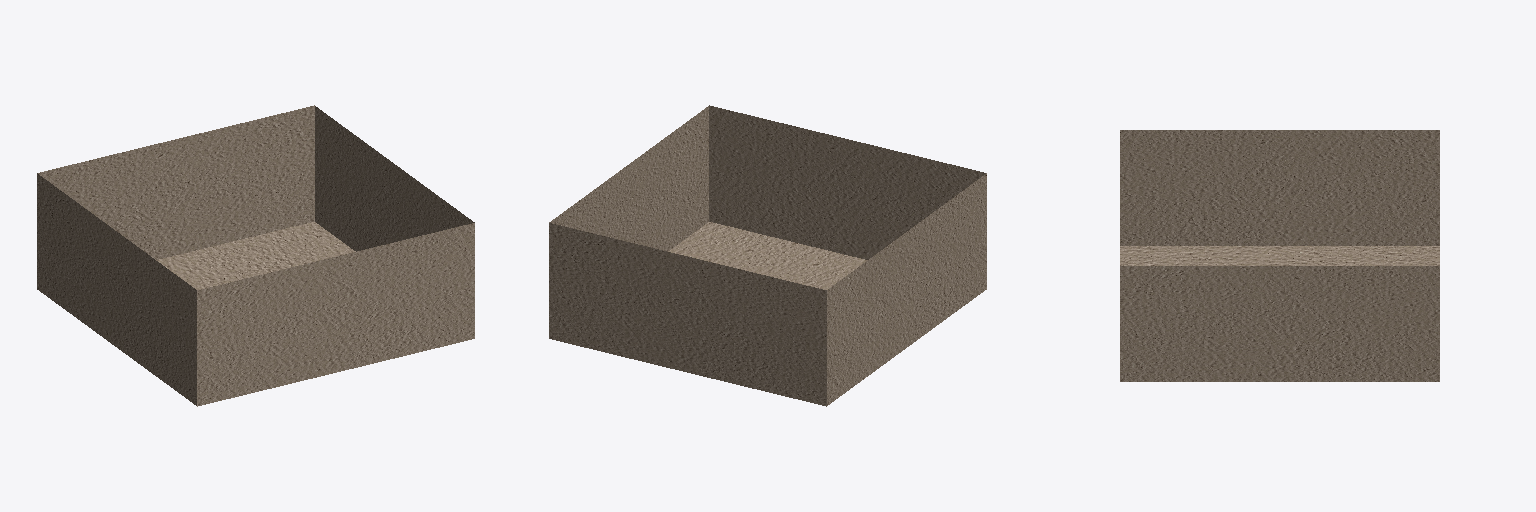
3 views of the same model, side by side, from view 1: azimuth 30°, elevation 25°; view 2: azimuth 150°, elevation 25°; view 3: azimuth 270°, elevation 25° (orthographic).
Visible parts, largest first — view 1: Raum; view 2: Raum; view 3: Raum.
Part boxes in pixels (x1,y1,x2,y2): Raum: (37,105,474,406); Raum: (549,105,986,406); Raum: (1120,130,1439,381).
Bounding box in the file's own units: 500 × 200 × 500.
1 materials, 1 textured.